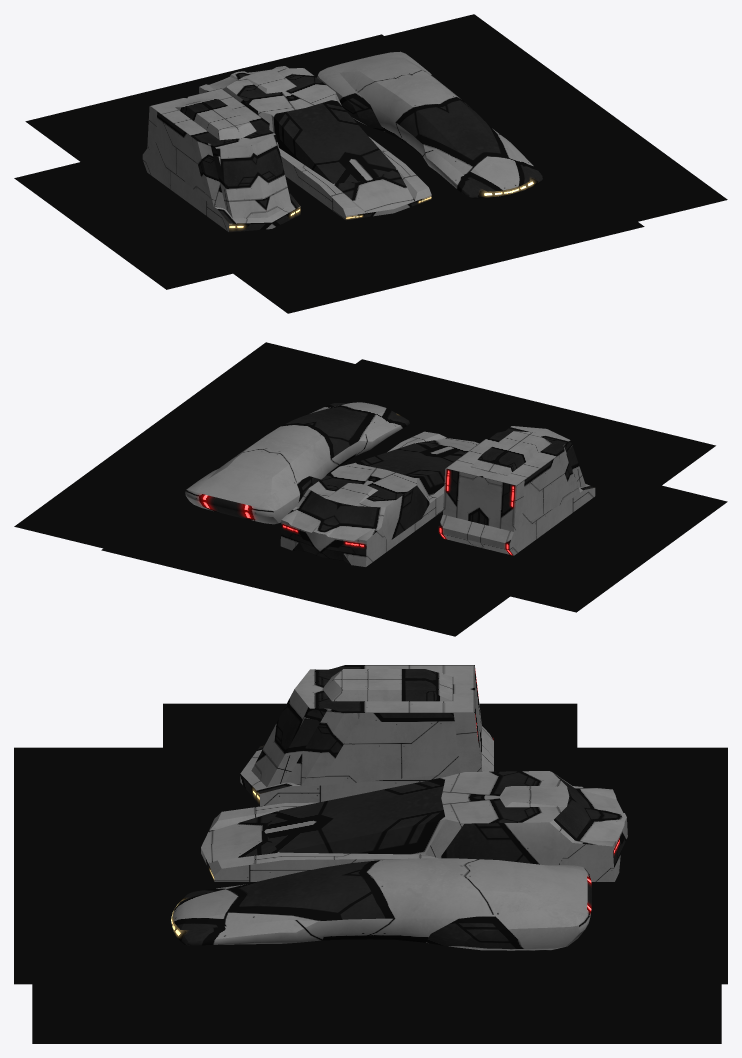
File: free_-_sci-fi_lods_-_set_010_-_public_domain.glb
3 views of the same model, one above another, from view 1: azimuth 30°, elevation 25°; view 2: azimuth 150°, elevation 25°; view 3: azimuth 270°, elevation 25° (orthographic). The views are drawn at different scales.
Visible parts, largest first — view 1: shadow_1.009, shadow_2.012, SF_LODs_set_008_01, SF_LODs_set_008_02, SF_LODs_set_008_03, shadow_2.013; view 2: shadow_1.009, shadow_2.012, SF_LODs_set_008_01, SF_LODs_set_008_02, SF_LODs_set_008_03, shadow_2.013; view 3: shadow_1.009, shadow_2.012, SF_LODs_set_008_01, SF_LODs_set_008_03, SF_LODs_set_008_02, shadow_2.013.
Boxes of the visible parts, x1,y1,x2,y2 form: shadow_1.009: (153,14,727,278); shadow_2.012: (25,34,644,313); SF_LODs_set_008_01: (199,66,431,220); SF_LODs_set_008_02: (142,88,300,232); SF_LODs_set_008_03: (317,51,543,198); shadow_2.013: (14,162,232,289); shadow_1.009: (14,342,584,604); shadow_2.012: (101,359,715,636); SF_LODs_set_008_01: (280,431,478,566); SF_LODs_set_008_02: (438,426,595,555); SF_LODs_set_008_03: (185,402,409,524); shadow_2.013: (510,485,727,612); shadow_1.009: (32,830,721,1043); shadow_2.012: (14,747,727,984); SF_LODs_set_008_01: (201,771,627,881); SF_LODs_set_008_03: (171,858,591,950); SF_LODs_set_008_02: (240,665,493,805); shadow_2.013: (163,703,577,747).
Bounding box in the file's own units: 14.35 × 2.22 × 12.73.
2 materials, 2 textured.
